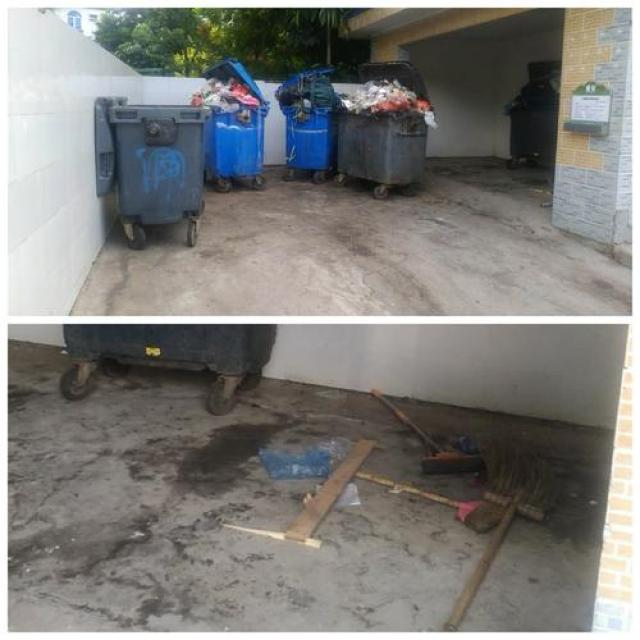garbage: (224, 388, 554, 630)
garbage_bin: (94, 96, 208, 221)
overflow: (336, 79, 436, 183), (191, 61, 270, 176), (278, 68, 335, 166)
